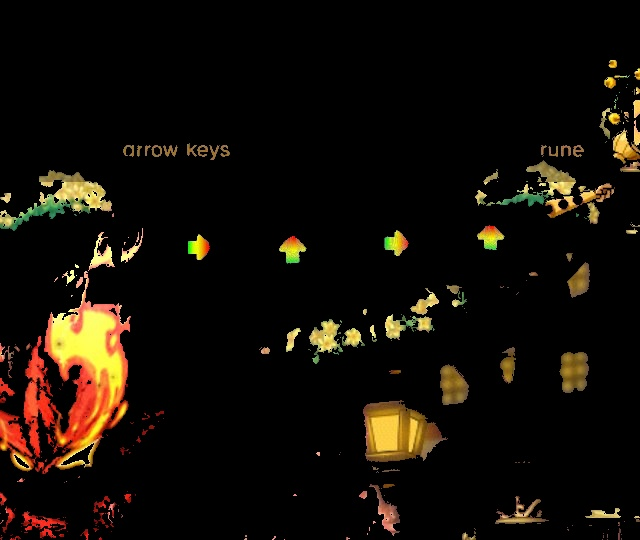right: (375, 222, 418, 264), (180, 228, 221, 270)
up: (468, 217, 511, 261), (271, 228, 311, 270)
